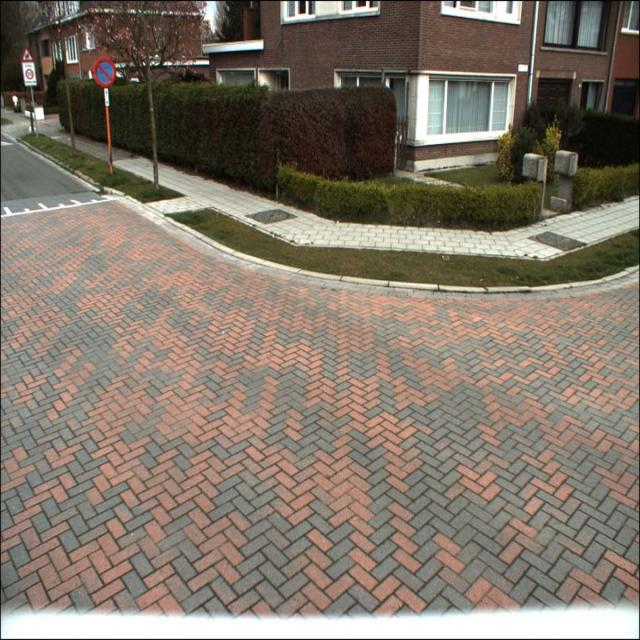parkyasak: (93, 57, 116, 86)
